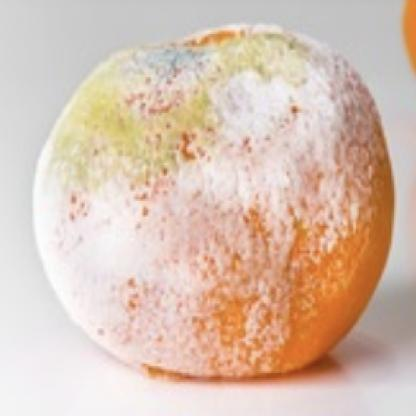rotten: (33, 23, 395, 383)
